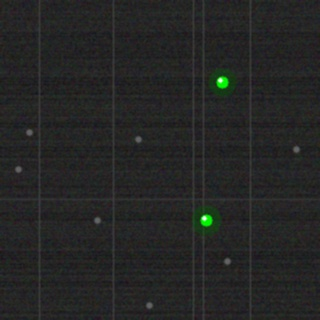green_normal: (214, 74, 230, 90), (198, 212, 214, 228)
